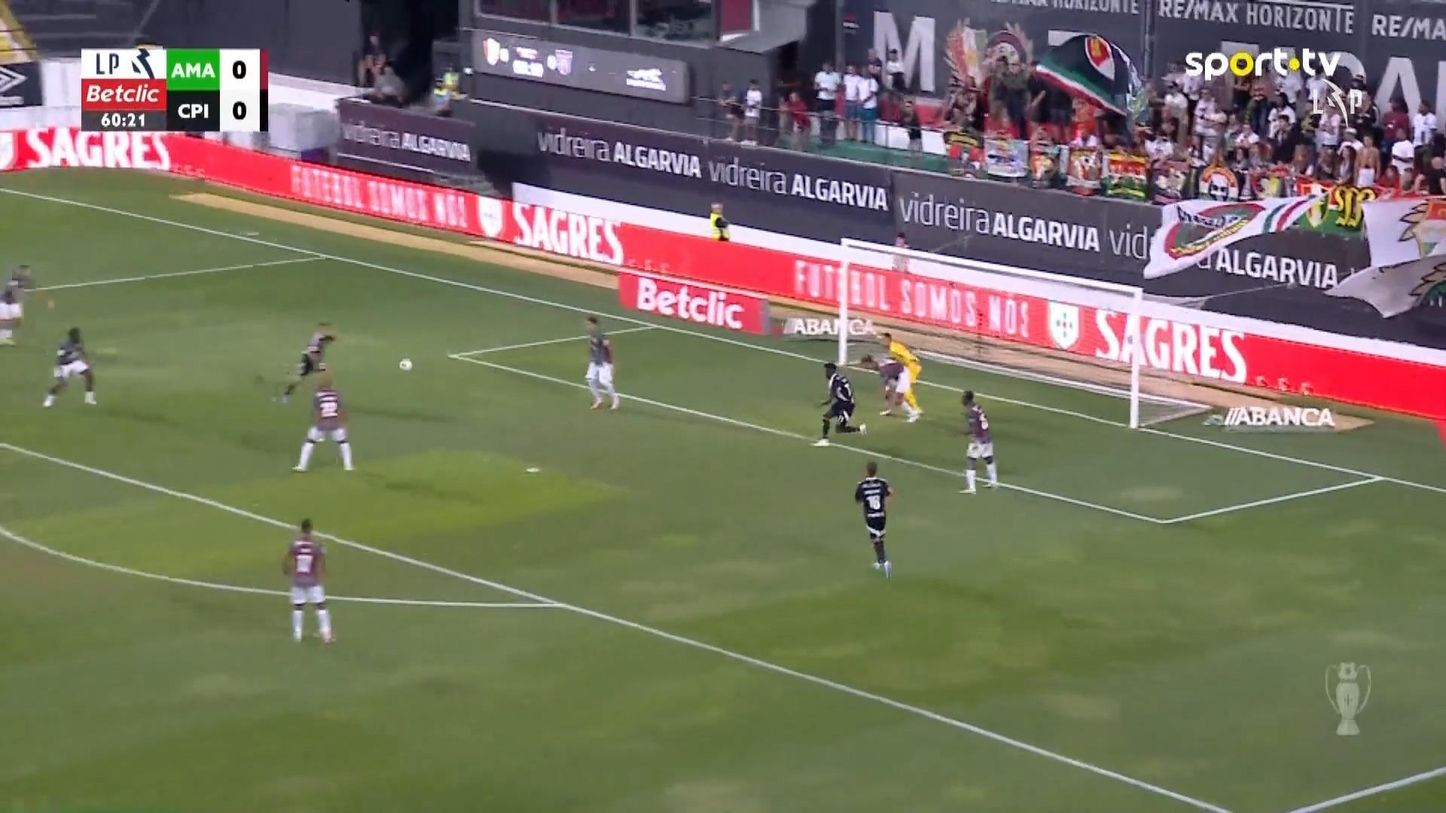ball: (398, 358, 412, 371)
goalkeeper: (875, 329, 925, 423)
player: (280, 516, 335, 644), (290, 373, 355, 472), (279, 320, 337, 403), (853, 460, 893, 579), (41, 326, 97, 407), (956, 388, 999, 493), (0, 263, 54, 346), (814, 361, 866, 445), (859, 352, 921, 422), (583, 314, 620, 410), (0, 284, 24, 346)
